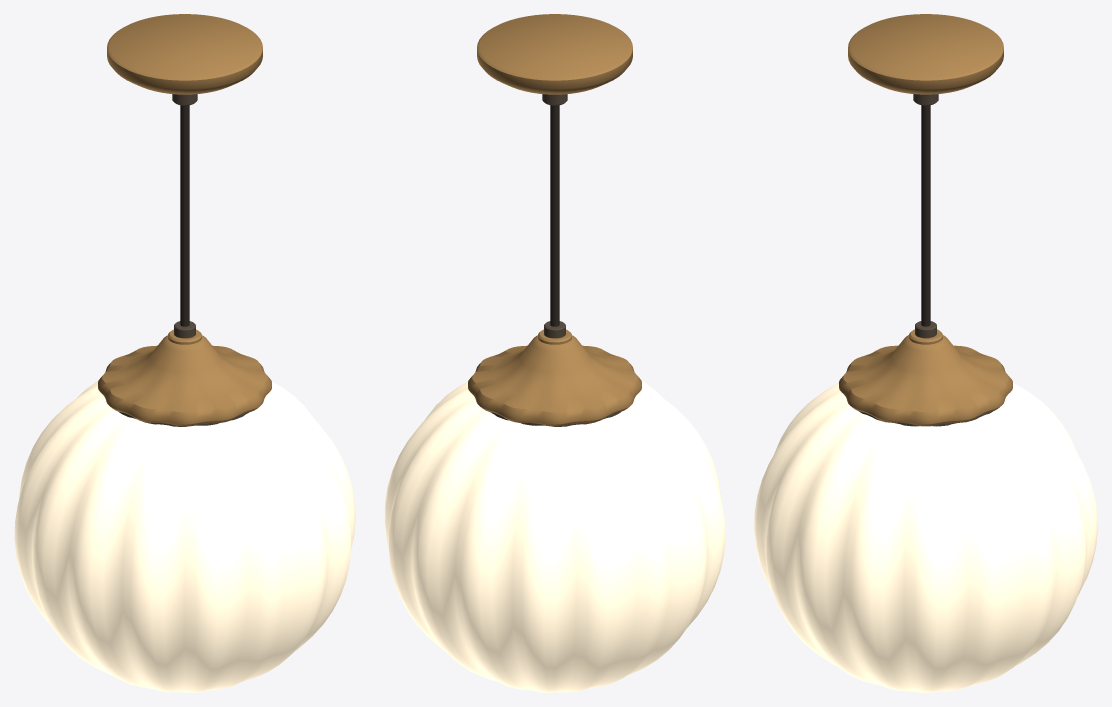
3 renders of one model, left to right at view 1: azimuth 30°, elevation 25°; view 2: azimuth 150°, elevation 25°; view 3: azimuth 270°, elevation 25°, orthographic.
Parts seen in each view (by area): view 1: Fixture; view 2: Fixture; view 3: Fixture.
Boxes of the visible parts, x1,y1,x2,y2 form: Fixture: (14,14,355,692); Fixture: (384,14,725,692); Fixture: (754,14,1097,692).
Bounding box in the file's own units: 0.2425 × 0.491 × 0.2425.
